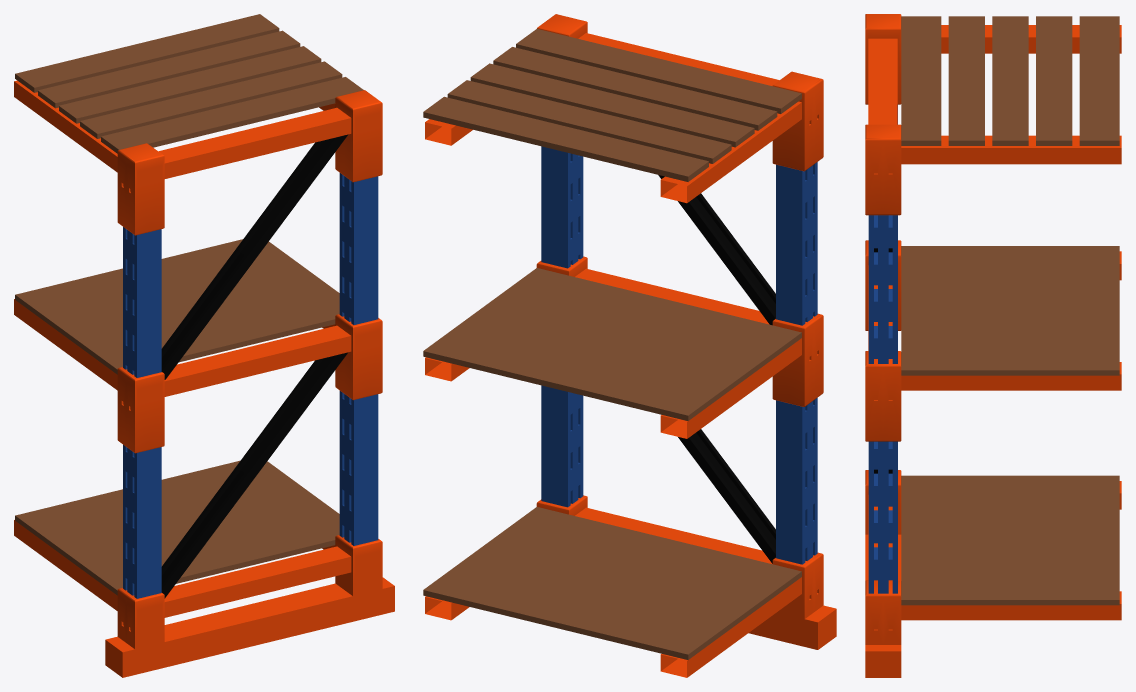
The model's file is Shelf_06_end1.glb.
3 renders of one model, left to right at view 1: azimuth 30°, elevation 25°; view 2: azimuth 150°, elevation 25°; view 3: azimuth 270°, elevation 25°, orthographic. The views are drawn at different scales.
Visible parts, largest first — view 1: Mesh_Shelf_06_end1; view 2: Mesh_Shelf_06_end1; view 3: Mesh_Shelf_06_end1.
Boxes of the visible parts, bbox=[...] form: Mesh_Shelf_06_end1: bbox=[14, 14, 394, 677]; Mesh_Shelf_06_end1: bbox=[423, 14, 836, 677]; Mesh_Shelf_06_end1: bbox=[865, 14, 1121, 677].
Bounding box in the file's own units: 1.11 × 2 × 0.8729.
1 material, 1 textured.
